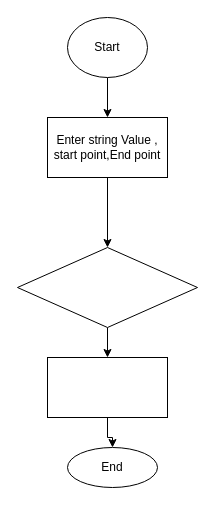
This 215x505 diagram has some shape labels left out. Each missing label, with the centre of its shape:
"Print string value" belongs at pixel 107 387.
"substr( start point ,end point )" belongs at pixel 107 287.
